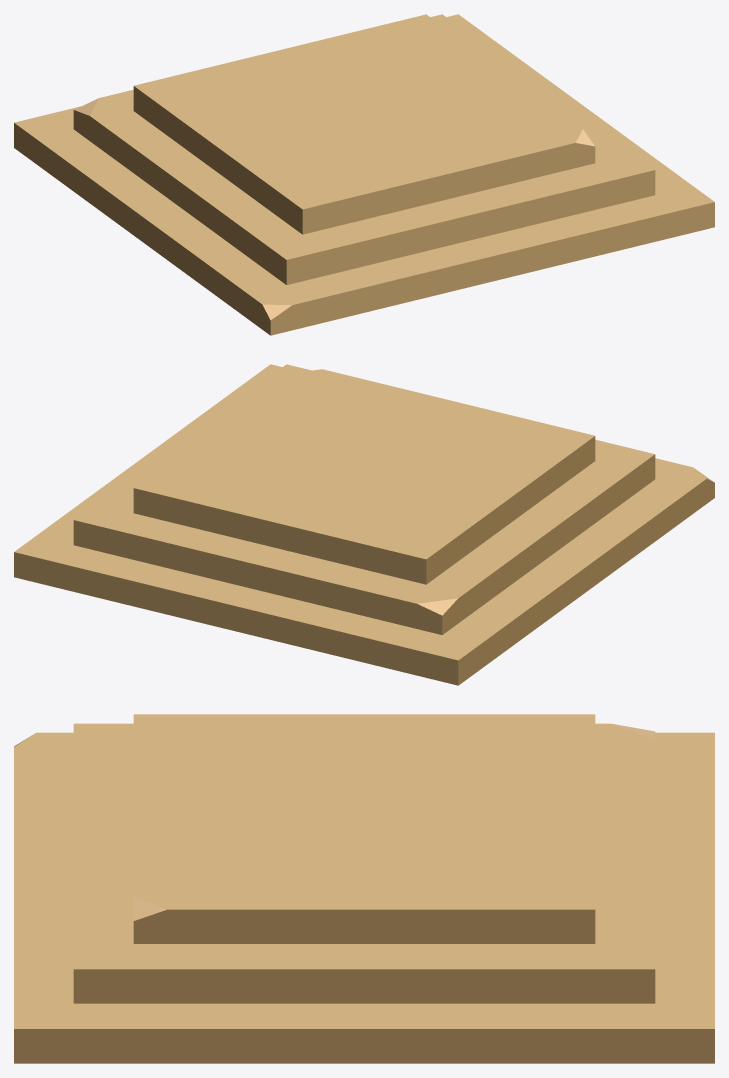
The model's file is ST_Env_FloorStep_01.fbx.
3 renders of one model, top to bottom at view 1: azimuth 30°, elevation 25°; view 2: azimuth 150°, elevation 25°; view 3: azimuth 270°, elevation 25°, orthographic. The views are drawn at different scales.
Parts seen in each view (by area): view 1: ST_Env_FloorStep_01; view 2: ST_Env_FloorStep_01; view 3: ST_Env_FloorStep_01.
Part boxes in pixels (x1,y1,x2,y2): ST_Env_FloorStep_01: (14,14,714,335); ST_Env_FloorStep_01: (14,364,714,685); ST_Env_FloorStep_01: (14,714,714,1063).
Size of the model in its own units: 8.25 by 1.34 by 8.25.
